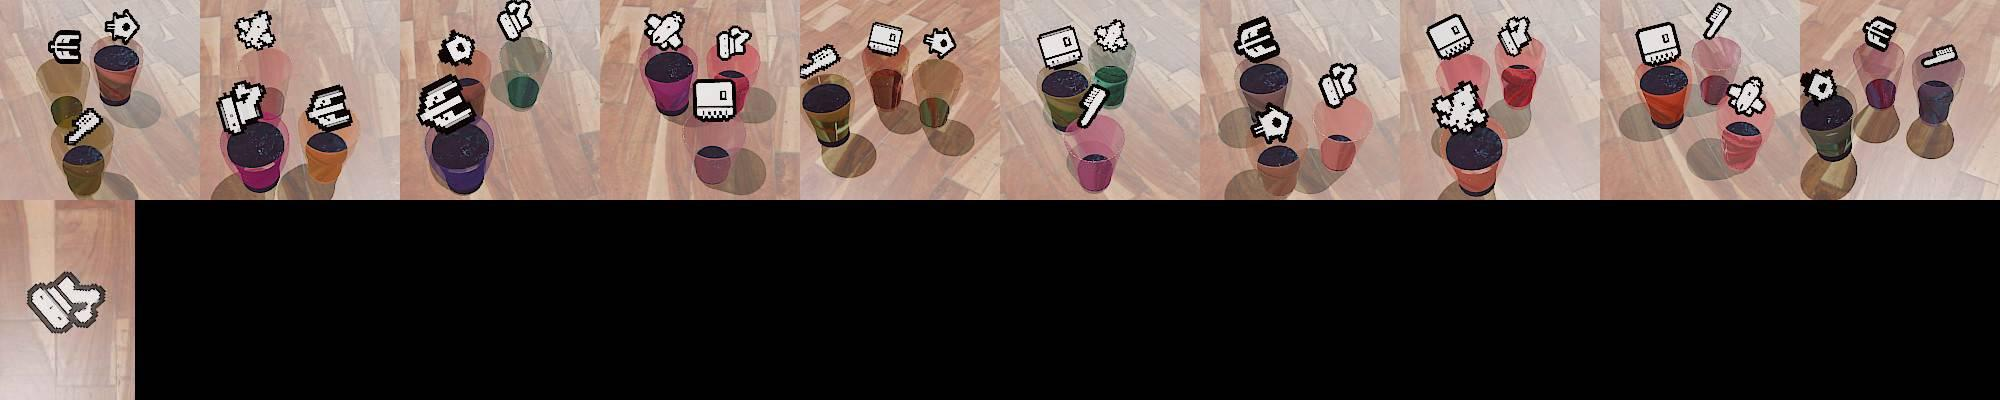icon: (25, 272, 108, 334), (418, 75, 478, 132), (216, 77, 269, 136), (1433, 80, 1489, 134), (304, 83, 353, 132), (1426, 14, 1474, 63), (1037, 23, 1084, 70), (1233, 15, 1278, 63), (1635, 20, 1682, 65), (693, 78, 737, 121), (1317, 62, 1357, 109), (234, 9, 276, 52), (1250, 104, 1293, 145), (644, 11, 686, 52), (1727, 75, 1766, 116), (436, 29, 477, 68), (63, 107, 103, 146), (497, 0, 534, 42), (798, 43, 840, 80), (1498, 15, 1534, 58), (1075, 84, 1108, 129), (1800, 67, 1838, 106), (104, 8, 141, 46), (715, 24, 753, 61), (867, 20, 905, 57), (1862, 16, 1898, 53), (1093, 18, 1128, 54), (47, 30, 83, 65), (922, 25, 956, 59), (1703, 2, 1733, 40), (1919, 44, 1958, 71)
